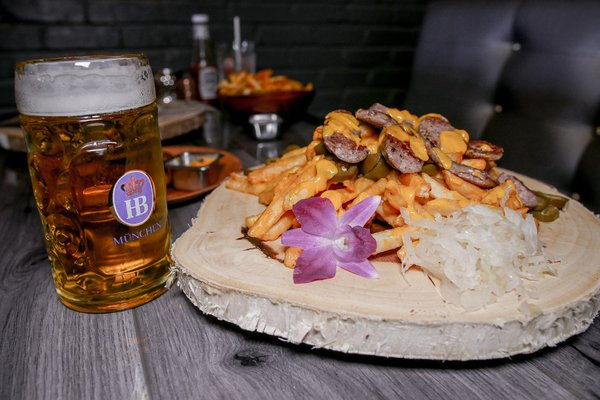soup: (167, 104, 600, 363)
